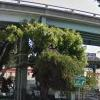Tree: (17, 14, 94, 85)
